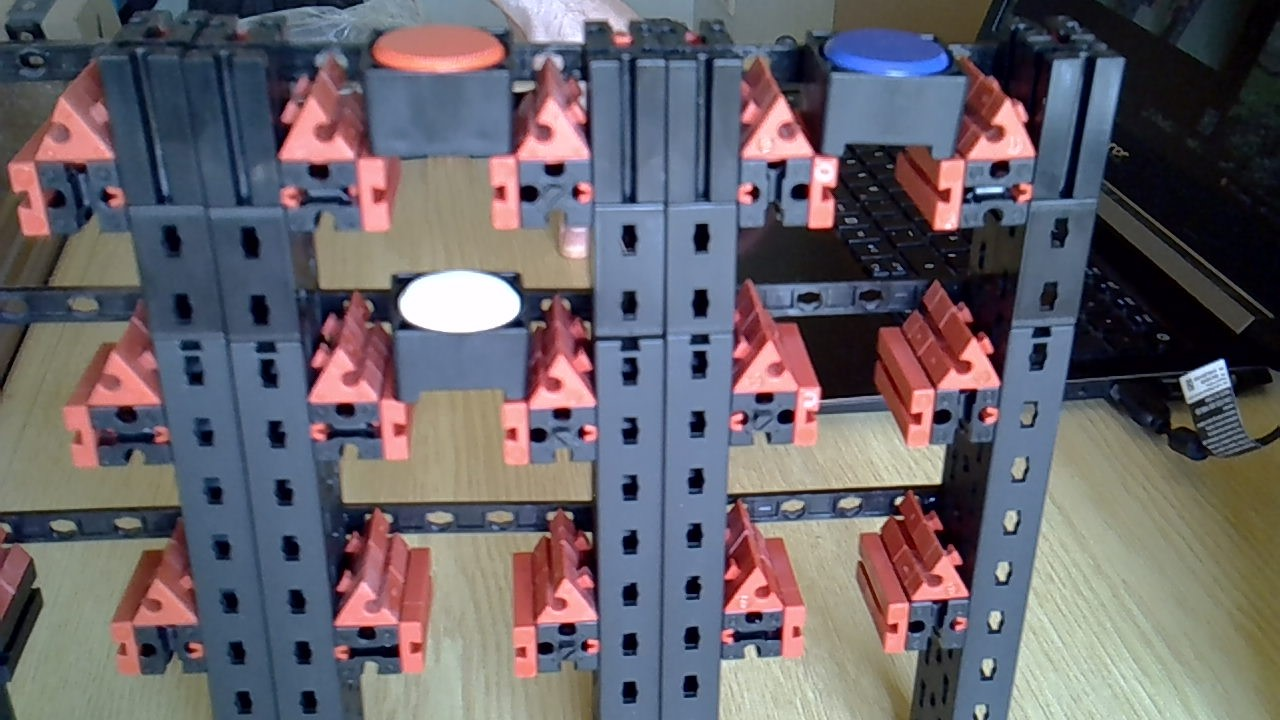Behaelter: (804, 35, 966, 161), (368, 30, 521, 159), (386, 276, 533, 403)
WerkStueck: (397, 268, 520, 333), (821, 24, 949, 77), (375, 24, 505, 70)
